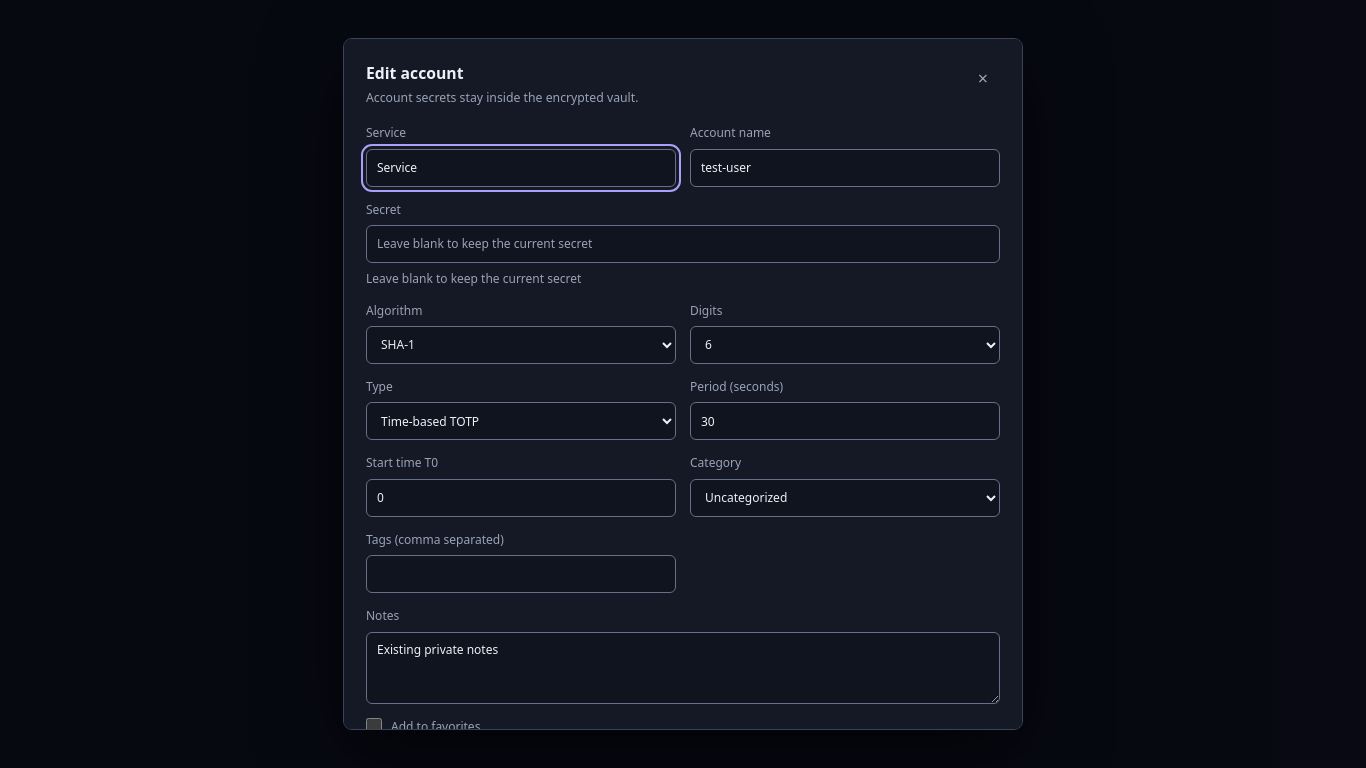
Test: AccountDialog › keeps replacement intent across a synchronous save failure and immediate retry before rerender
The image size is (1366, 768).
Expected: the text box labelled "Notes" is enabled, [366, 632, 1000, 704]
Step 1. Type "JBSWY3DPEHPK3PXP" into the password field labelled "Secret" → (683, 244), box [366, 225, 1000, 263]
(page scrolled)
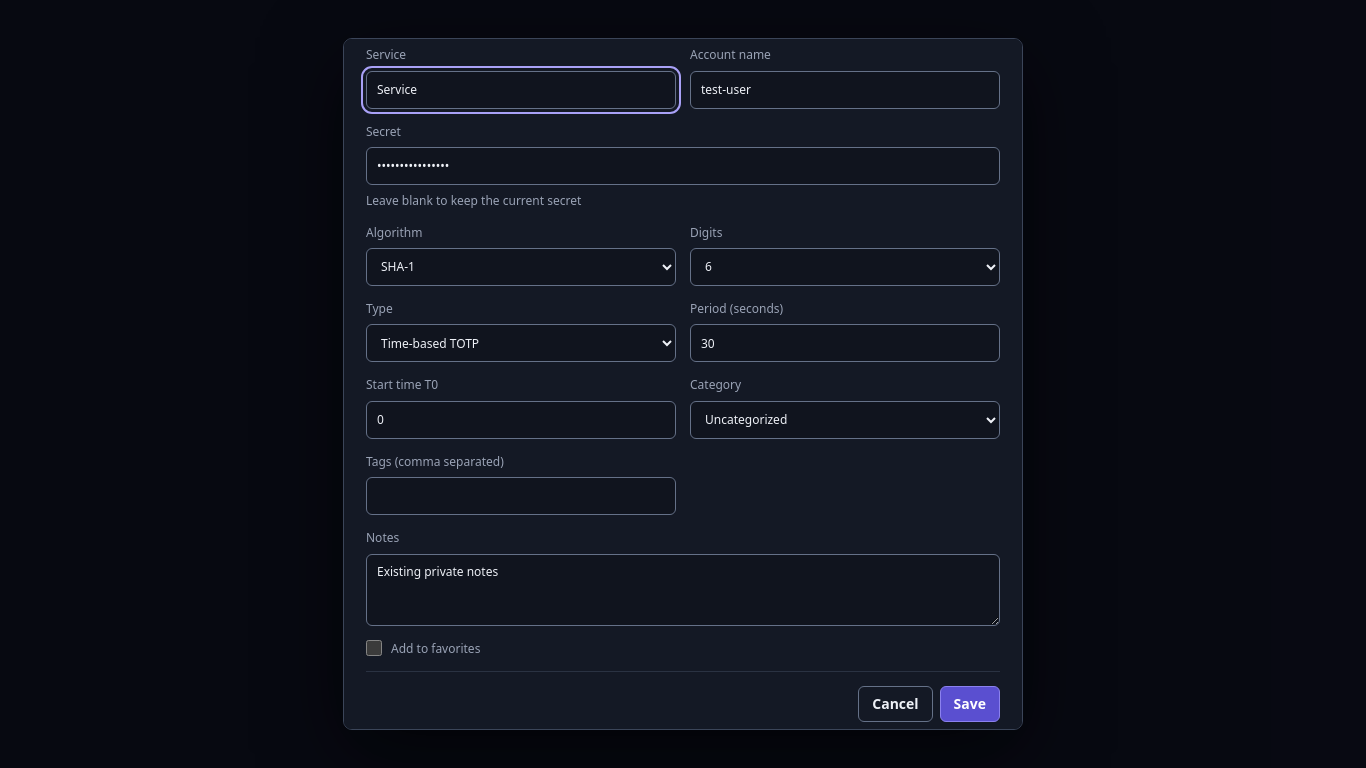
Step 2. Submit the form, box [366, 46, 1000, 722]
Step 3. Submit the form, box [366, 46, 1000, 722]
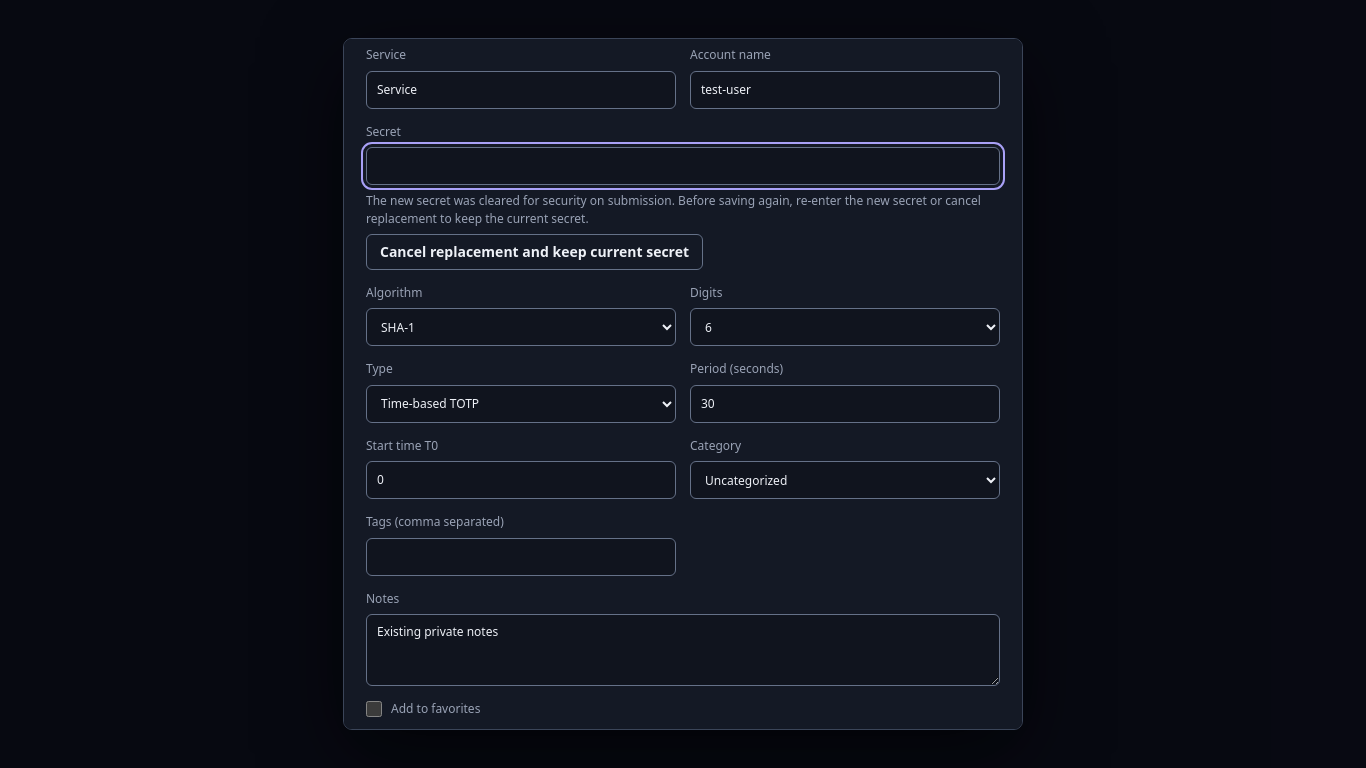
Expected: the password field labelled "Secret" is empty, [366, 147, 1000, 185]
